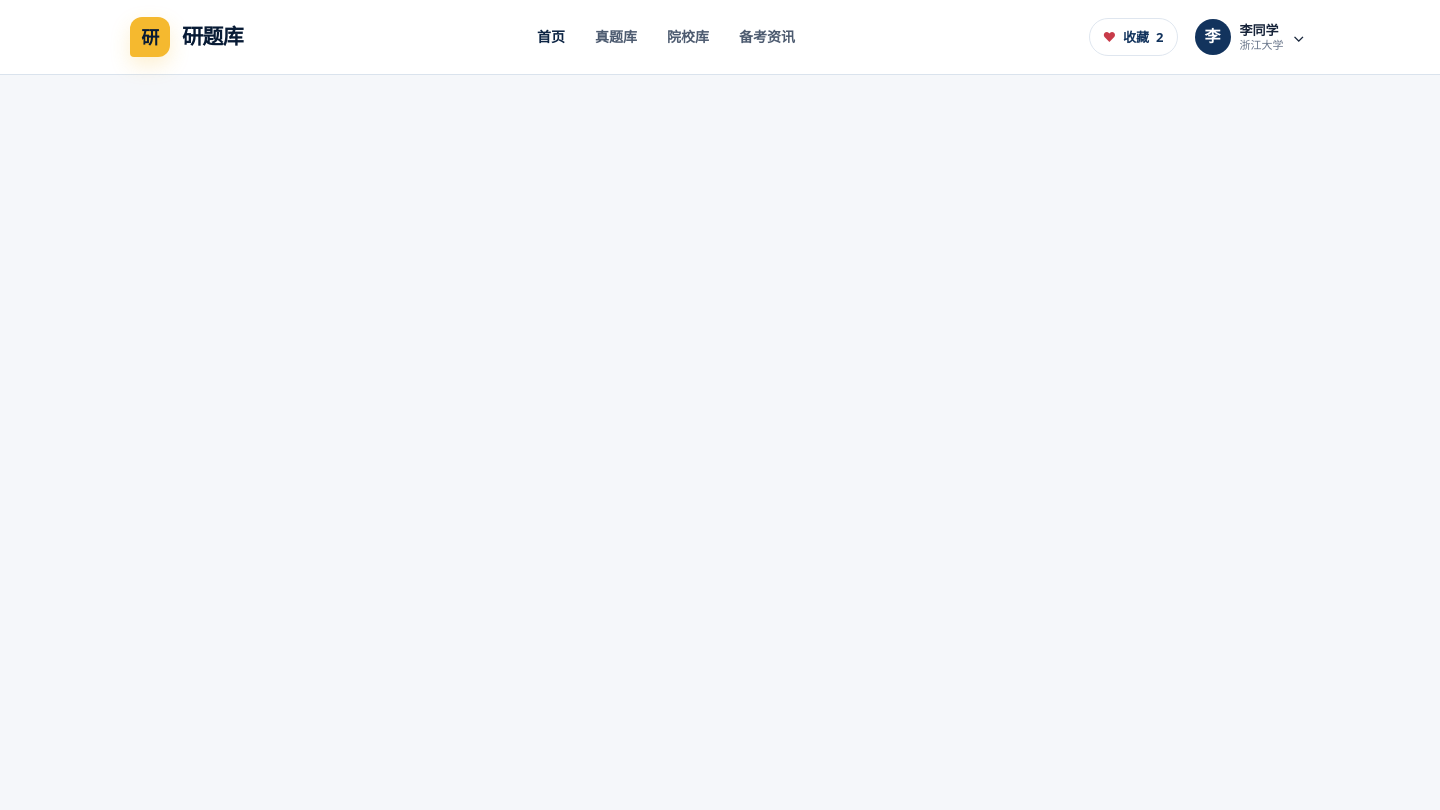
Test: SiteHeader › logs out, clears user information and preserves favorites
Click the button "李 李同学 浙江大学 ⌄" at (1250,37), box [1190, 14, 1310, 60]
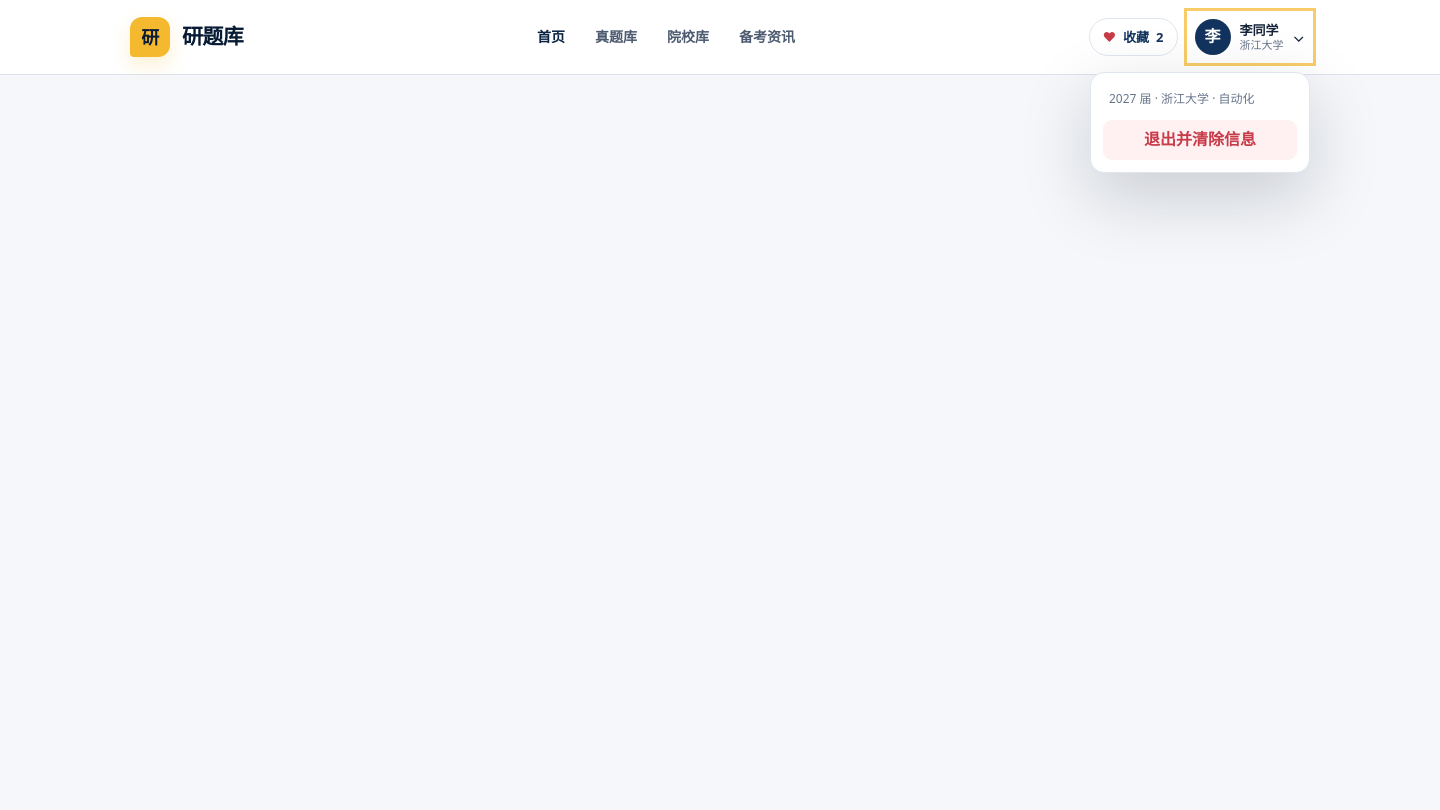
Click the button "退出并清除信息" at (1200,140), box [1103, 120, 1297, 160]
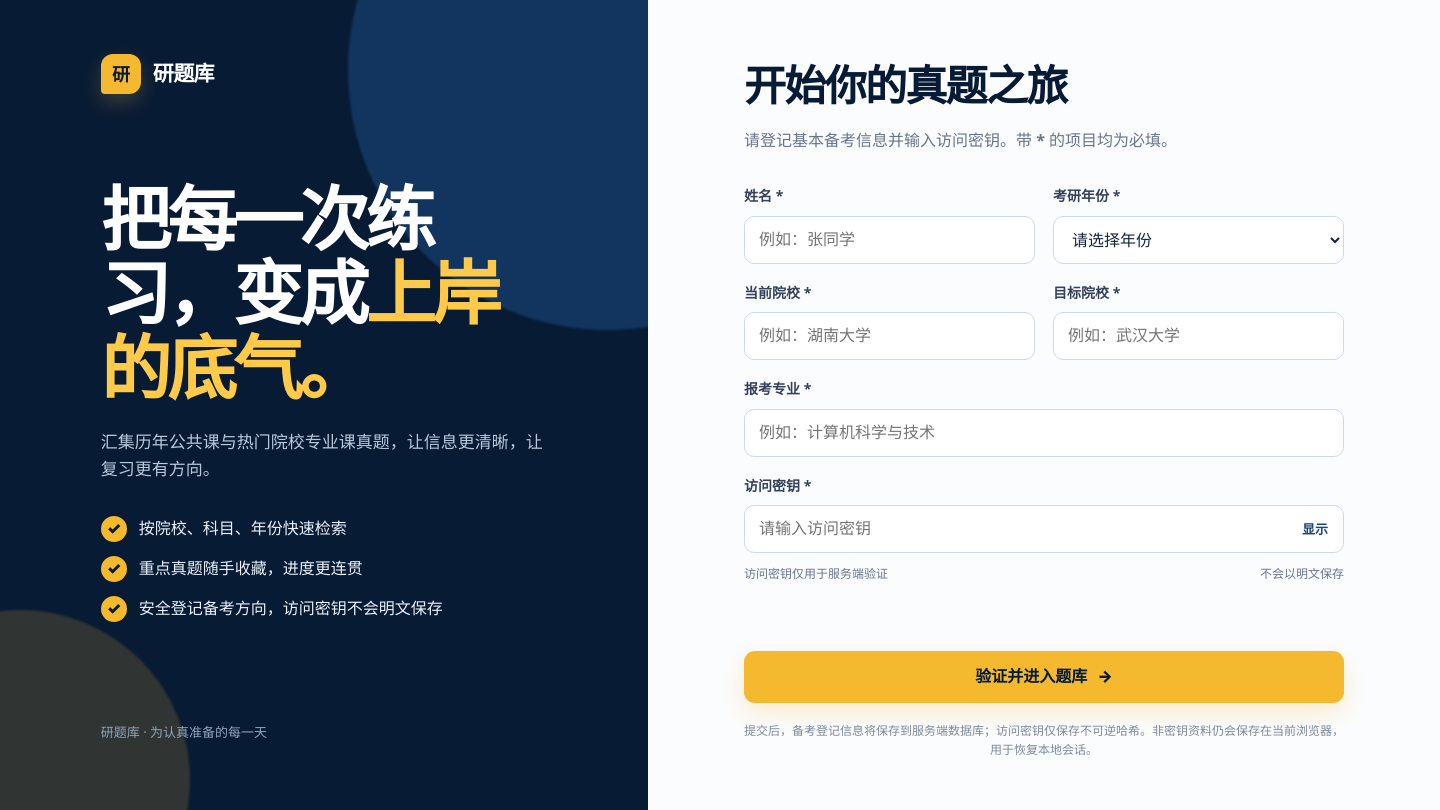
expect the heading "开始你的真题之旅" is shown: met, box [744, 56, 1067, 112]
